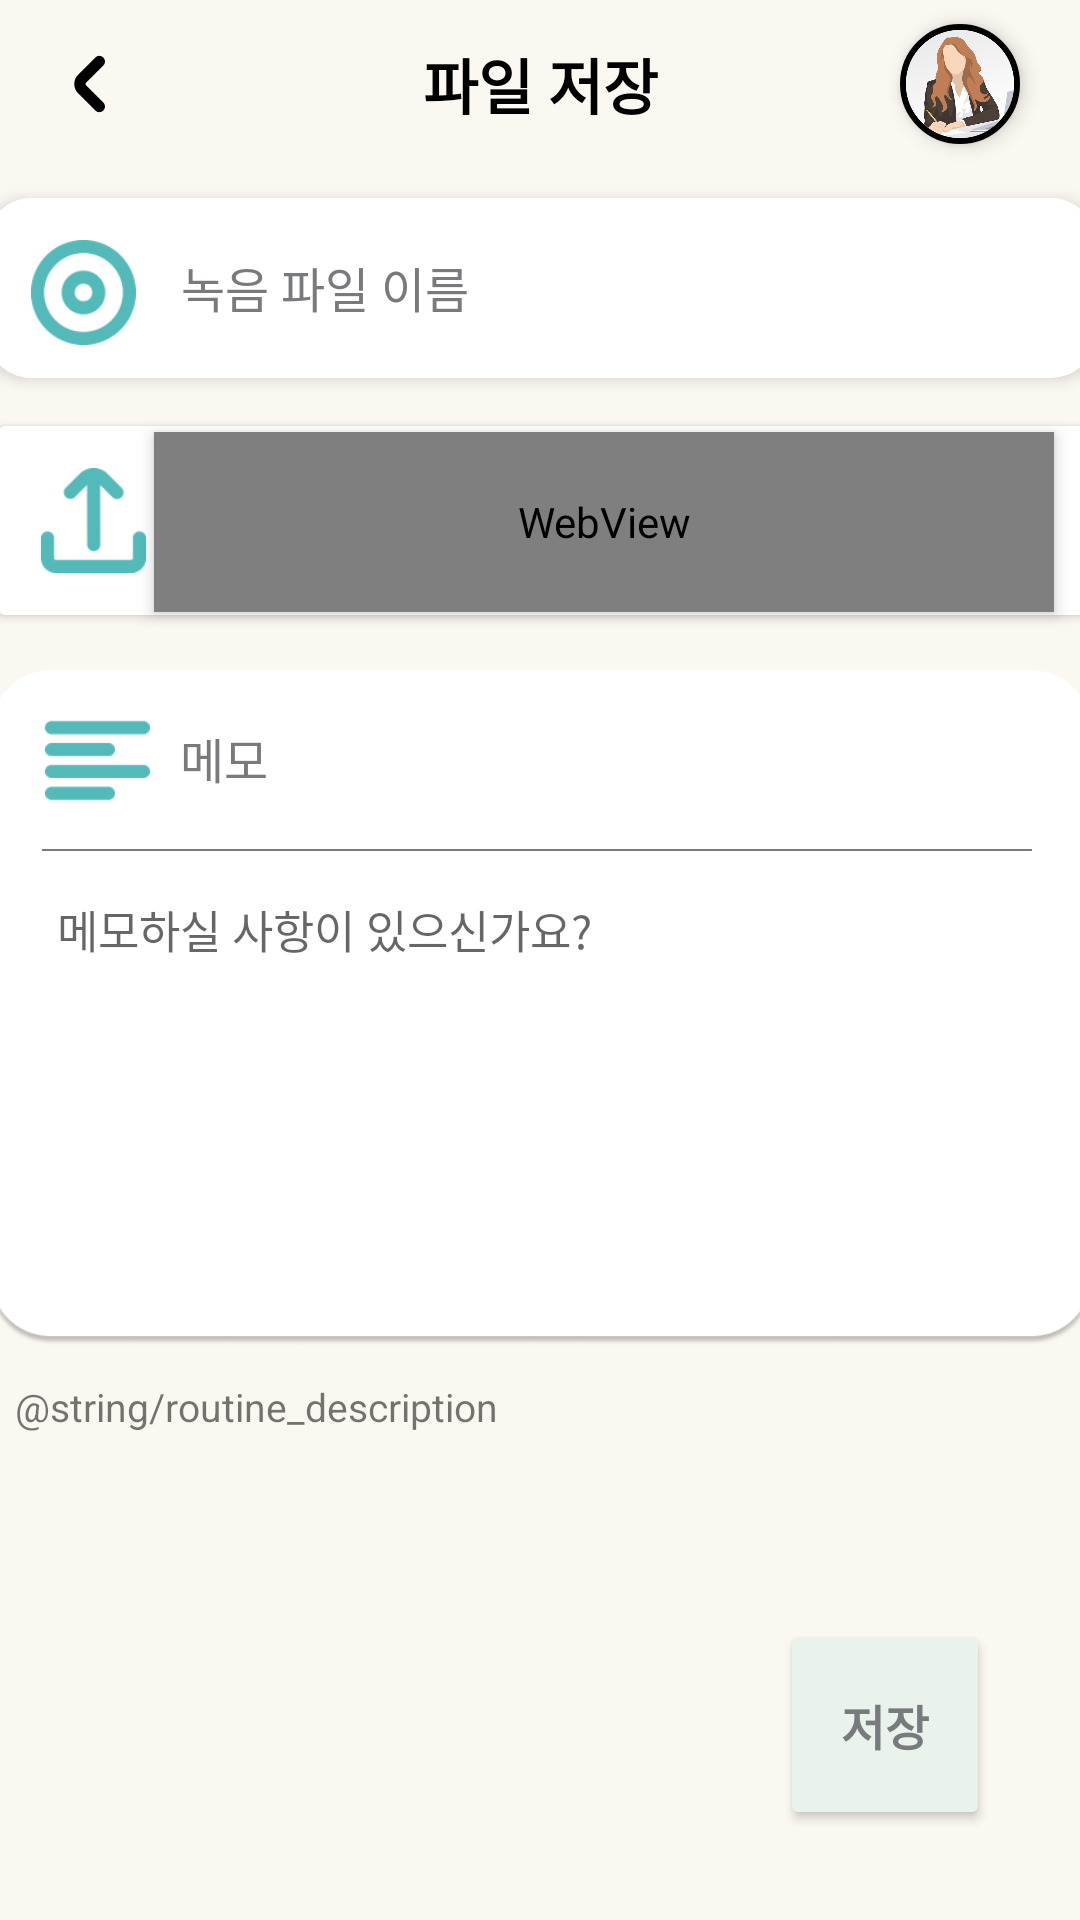

Named icons in this screenshot (1080w x 1920h) and their centers, (x,y):
back: (89,84)
profile: (960,84)
